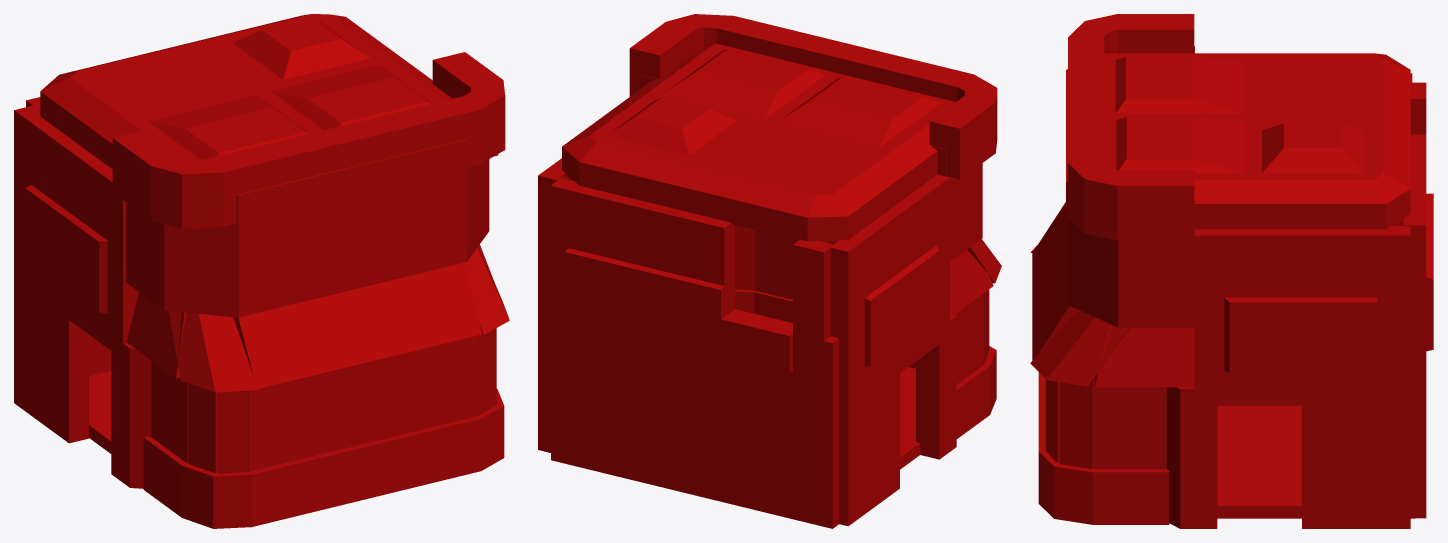
Rendered from SM_Bld_Vendor_08_Collision.fbx.
3 views of the same model, side by side, from view 1: azimuth 30°, elevation 25°; view 2: azimuth 150°, elevation 25°; view 3: azimuth 270°, elevation 25° (orthographic). The views are drawn at different scales.
Parts seen in each view (by area): view 1: SM_Bld_Vendor_08_Collision; view 2: SM_Bld_Vendor_08_Collision; view 3: SM_Bld_Vendor_08_Collision.
Part boxes in pixels (<box>): SM_Bld_Vendor_08_Collision: <box>14,14,509,528</box>; SM_Bld_Vendor_08_Collision: <box>538,14,1001,528</box>; SM_Bld_Vendor_08_Collision: <box>1030,14,1433,528</box>.
Size of the model in its own units: 867 by 817 by 859.
